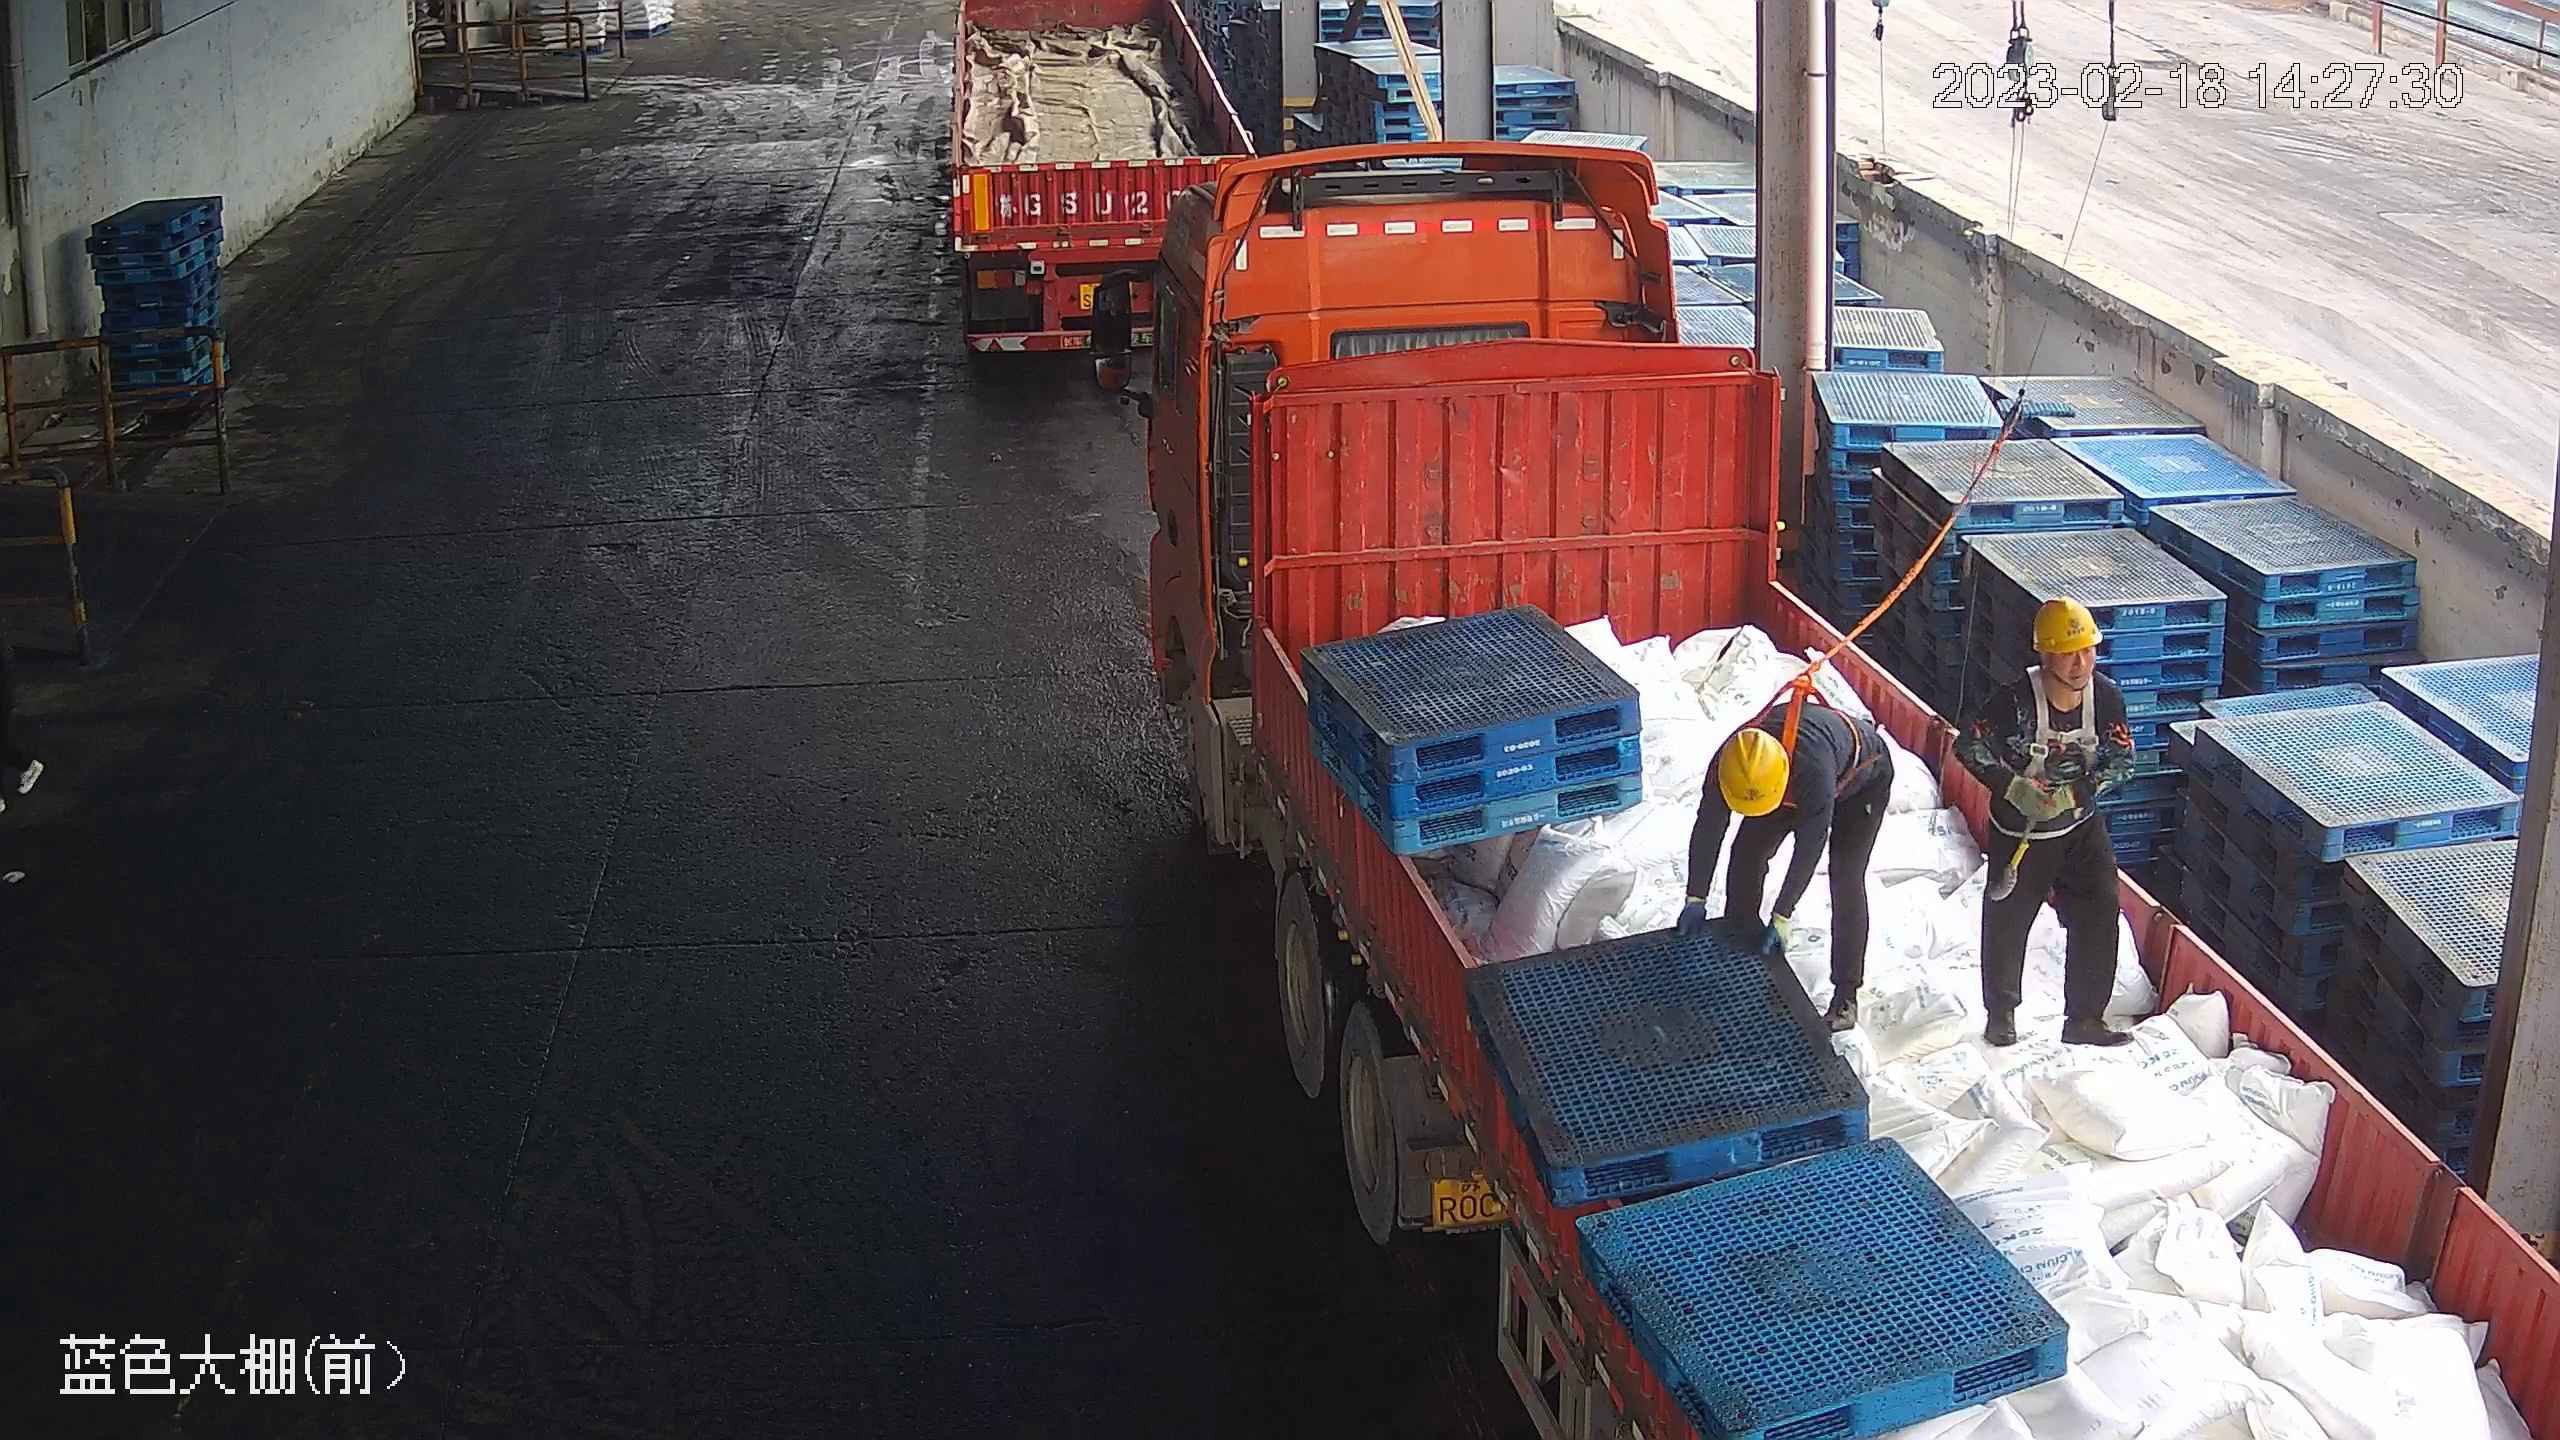belt: (1752, 642, 1881, 759), (2012, 678, 2139, 791)
head: (1984, 601, 2142, 764), (1710, 698, 1832, 835)
helmet: (1717, 727, 1790, 815), (2030, 596, 2100, 659)
people: (1949, 600, 2145, 1050), (1674, 694, 1900, 1035)
truck: (1093, 128, 2560, 1440), (940, 1, 1264, 394)
